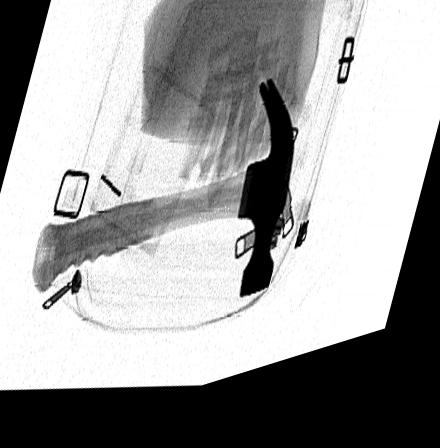Hammer: (30, 90, 296, 313)
